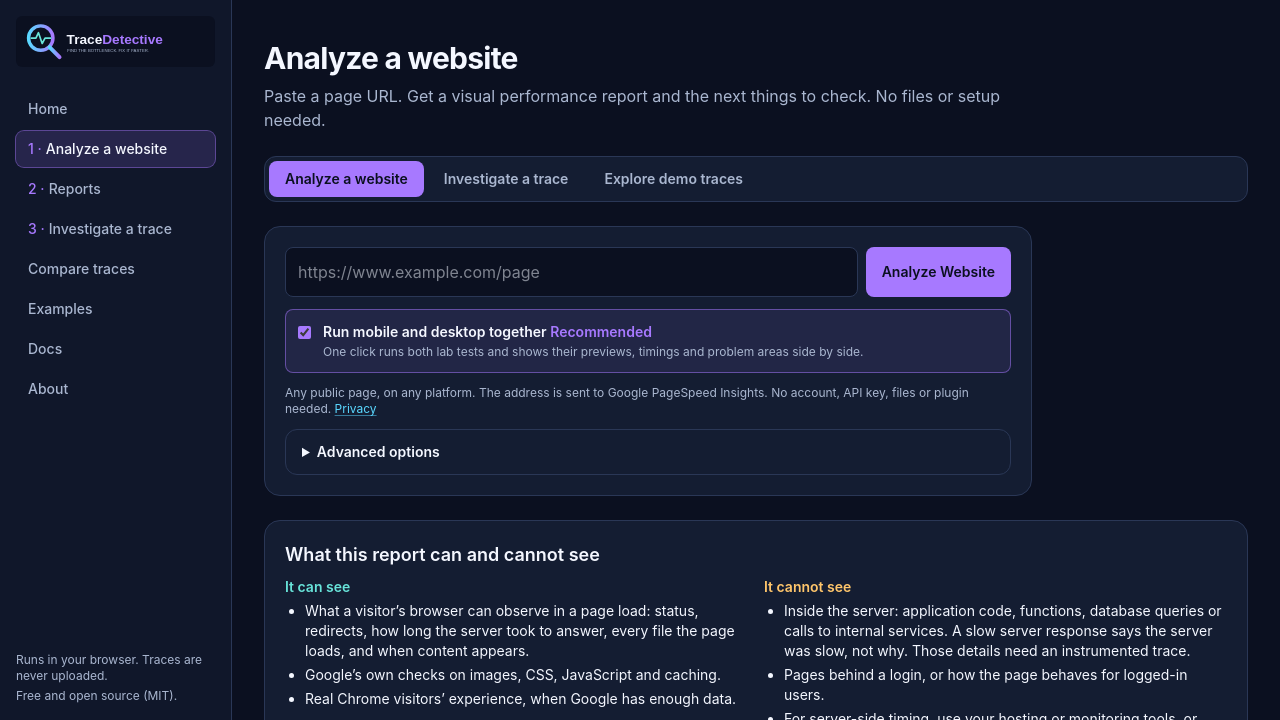
website analysis › runs mobile and desktop together by default and labels lab and real-user data
Later steps or results of the test are not shown.
Type "example.com" into the field named "Website URL".
click(571, 272); type("example.com")  # box [285,247,858,297]
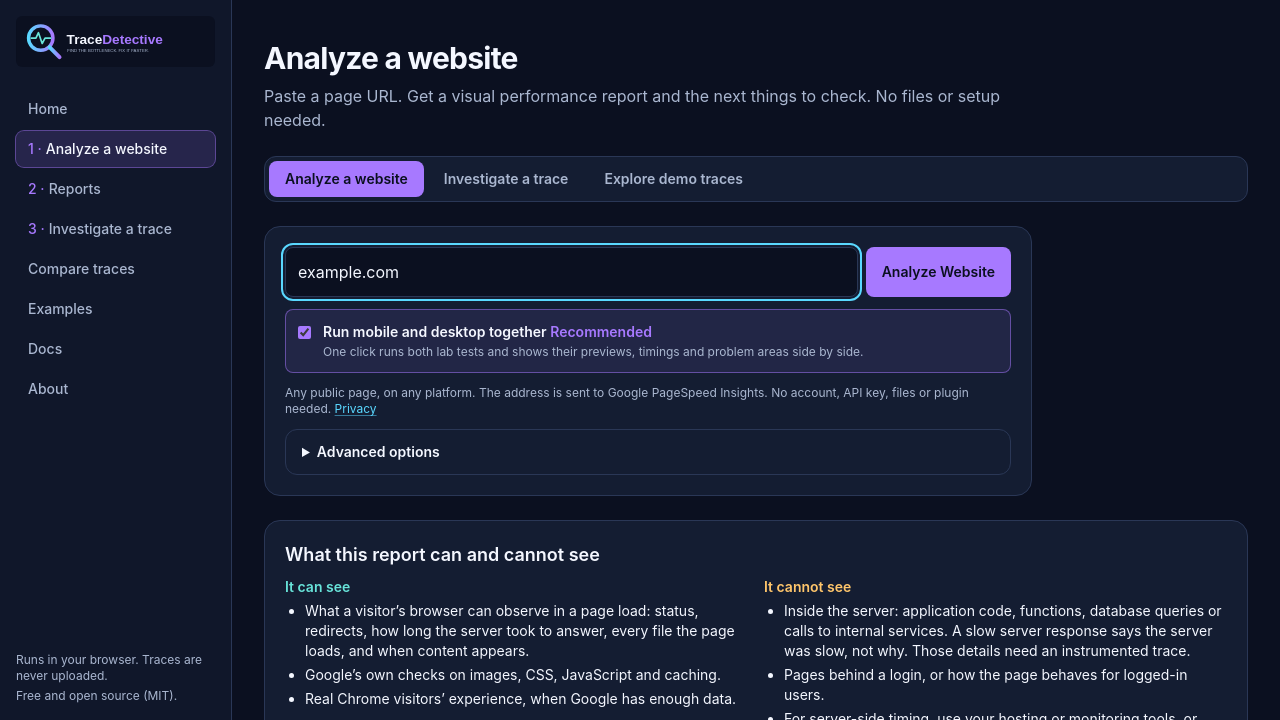
Click the button "Analyze Website".
click(938, 272)  # box [866,247,1011,297]
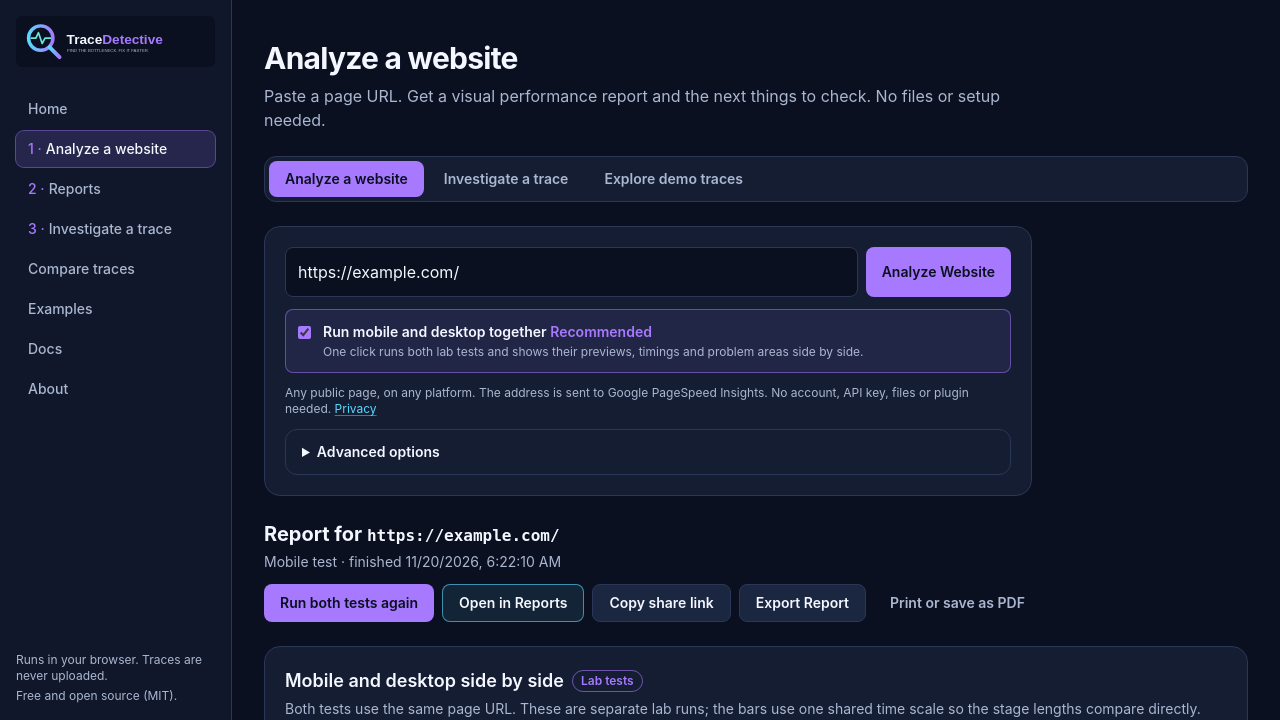
expect the text "https://example.com/" is shown: met, box [367,526,560,545]
expect the heading "Mobile and desktop side by side" is shown: met, box [285,667,564,695]
expect the button "Export Report" is shown: met, box [739,584,866,622]
